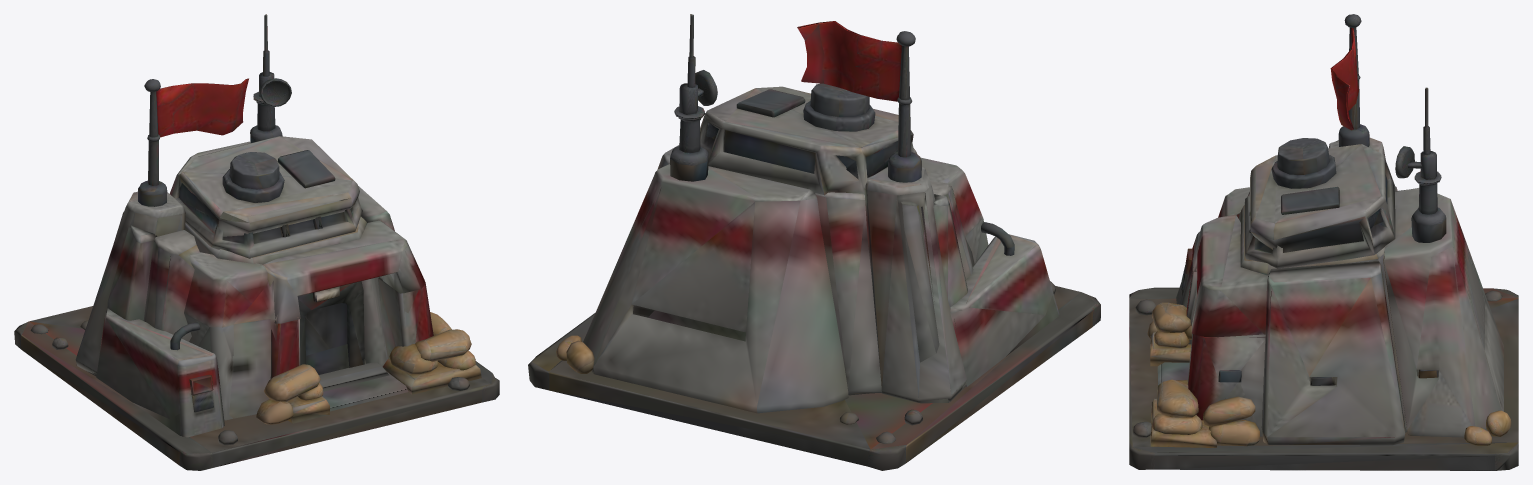
3 views of the same model, side by side, from view 1: azimuth 30°, elevation 25°; view 2: azimuth 150°, elevation 25°; view 3: azimuth 270°, elevation 25° (orthographic). The views are drawn at different scales.
Visible parts, largest first — view 1: hull; view 2: hull; view 3: hull.
Boxes of the visible parts, x1,y1,x2,y2 form: hull: [14, 14, 499, 470]; hull: [528, 14, 1100, 470]; hull: [1129, 14, 1518, 470].
Size of the model in its own units: 1 by 0.937 by 1.
1 material, 1 textured.
